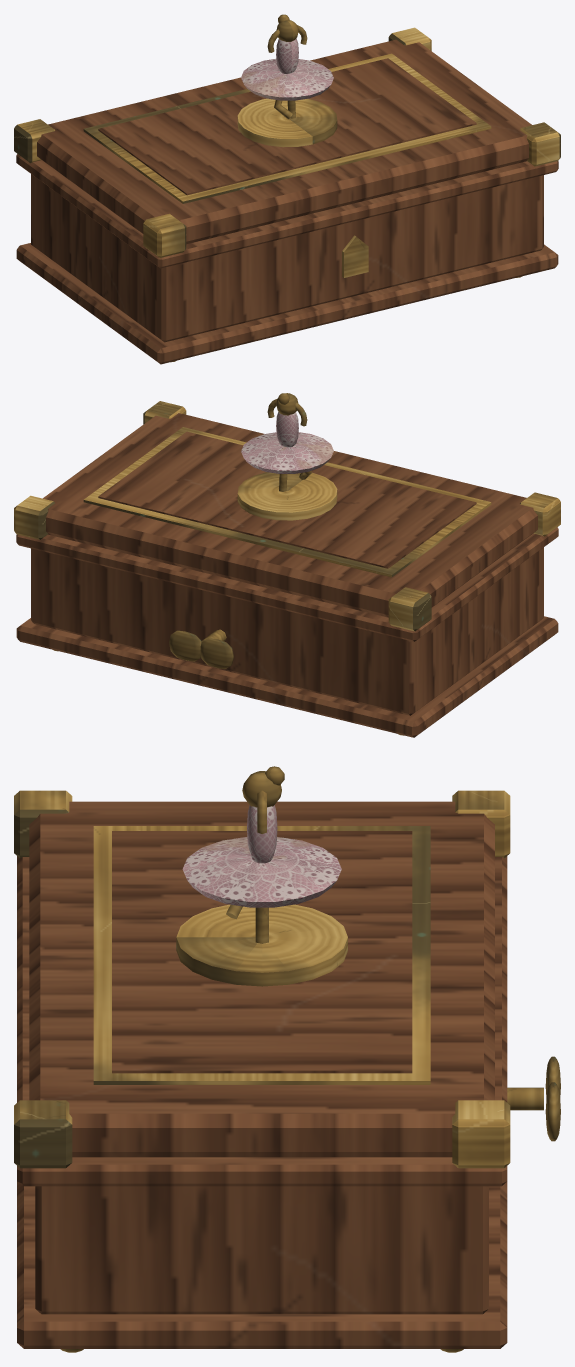
File: bed_music_box.obj
3 views of the same model, one above another, from view 1: azimuth 30°, elevation 25°; view 2: azimuth 150°, elevation 25°; view 3: azimuth 270°, elevation 25° (orthographic). The views are drawn at different scales.
Visible parts, largest first — view 1: bed_music_box_wood_dark, bed_music_box_brass, bed_music_box_doll_dress; view 2: bed_music_box_wood_dark, bed_music_box_brass, bed_music_box_doll_dress; view 3: bed_music_box_wood_dark, bed_music_box_brass, bed_music_box_doll_dress.
Part boxes in pixels (x1=…): bed_music_box_wood_dark: x1=16, y1=39, x2=558, y2=364; bed_music_box_brass: x1=14, y1=14, x2=560, y2=362; bed_music_box_doll_dress: x1=241, y1=38, x2=333, y2=100; bed_music_box_wood_dark: x1=16, y1=413, x2=558, y2=737; bed_music_box_brass: x1=14, y1=393, x2=560, y2=735; bed_music_box_doll_dress: x1=241, y1=412, x2=333, y2=473; bed_music_box_wood_dark: x1=17, y1=801, x2=507, y2=1348; bed_music_box_brass: x1=14, y1=766, x2=560, y2=1352; bed_music_box_doll_dress: x1=182, y1=805, x2=341, y2=907.
Bounding box in the file's own units: 0.26 × 0.16 × 0.18.
3 materials, 3 textured.
